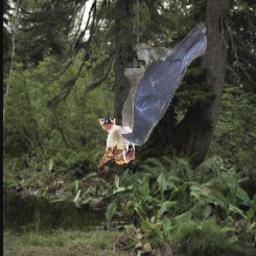Crow: (119, 21, 207, 146)
Sparrow: (95, 119, 135, 168)
